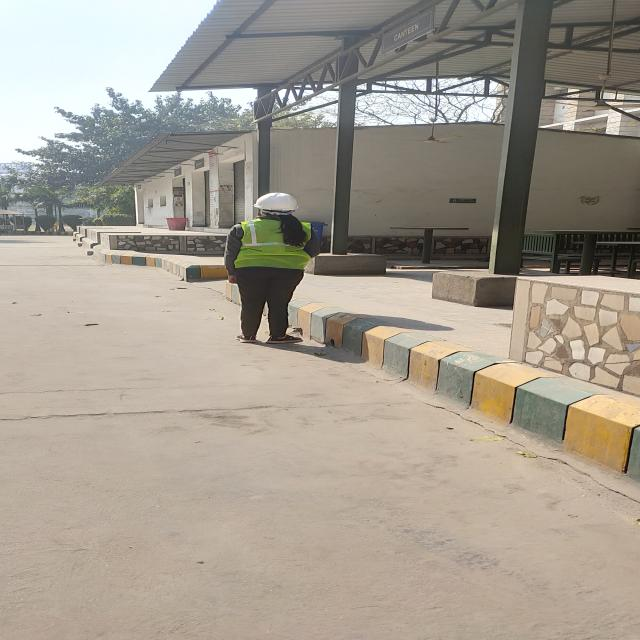safe: (225, 192, 319, 342)
